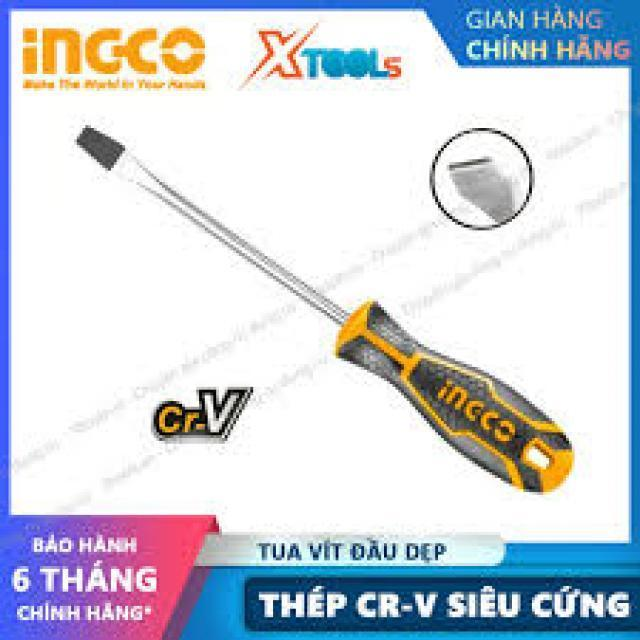screwdriver: (70, 122, 579, 495)
